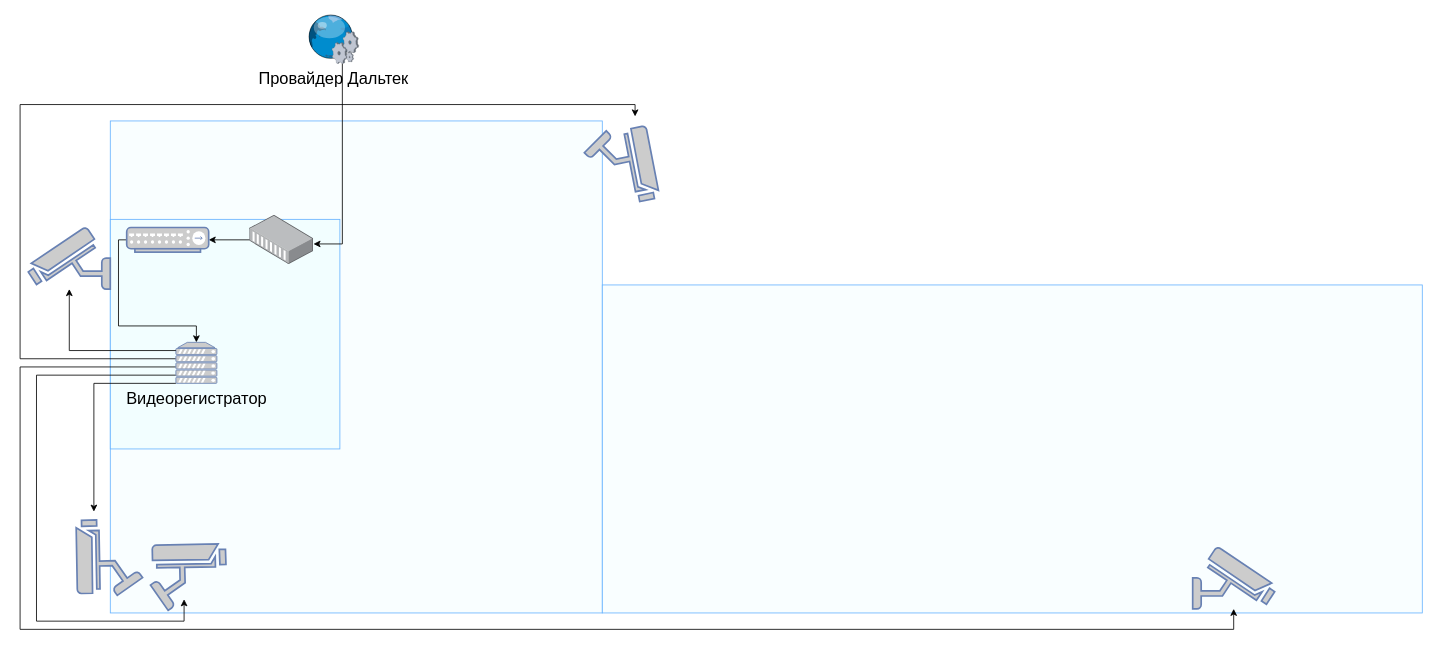
This 1437x650 diagram has some shape labels left out. The centre of each missing label's shape, as x and y in pixels:
MOD MICROTIK: pixel 167 239
Медиаконвертор: pixel 281 239
